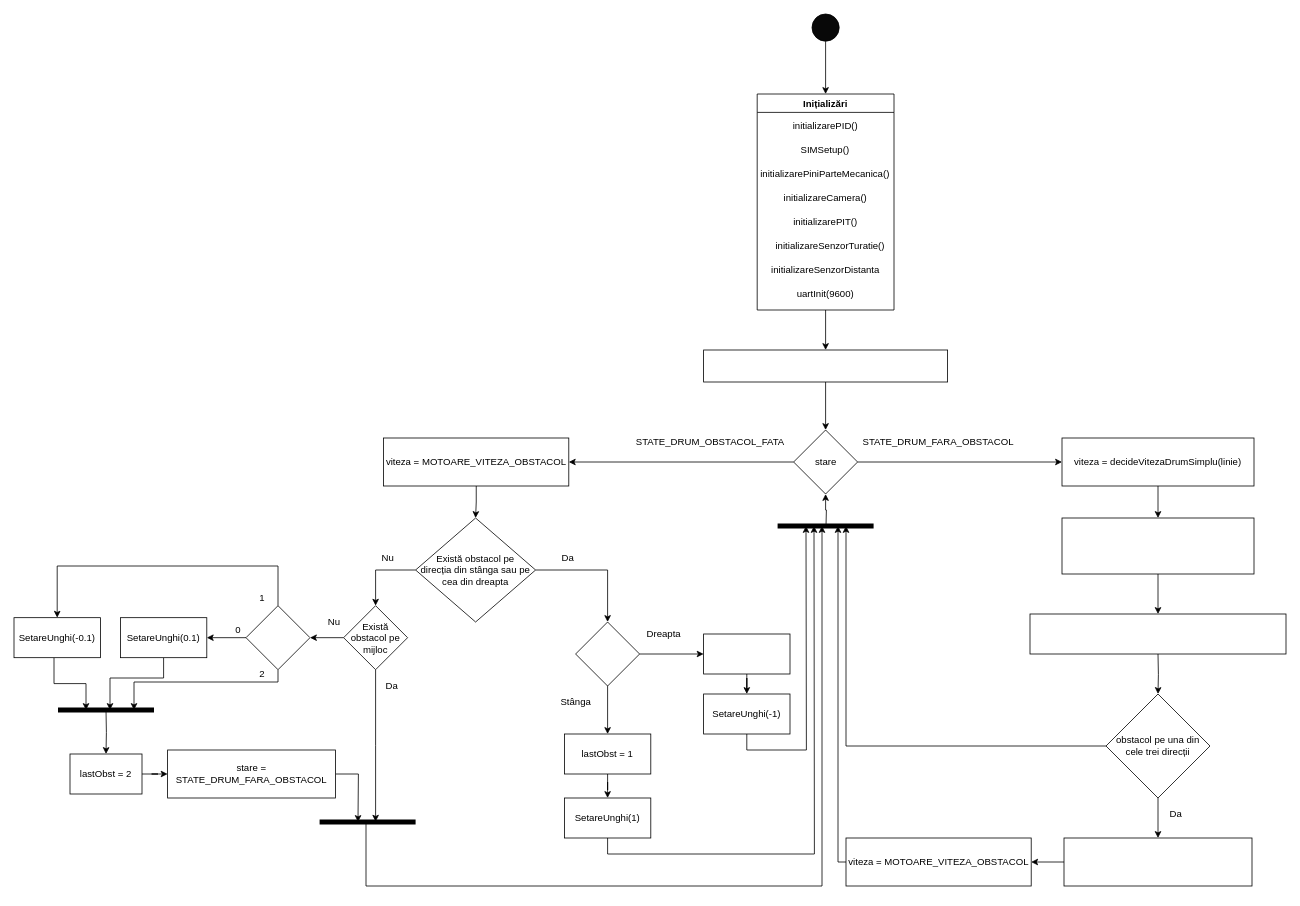
The diagram is 1300 pixels wide and 906 high, and some of its shapes have lost their labels. The shapes that lost their labels are listed below. From the top down, each one's centre as x and y in pixels, then its label:
(825,365): SetareUnghi(SERVOMOTOR_STRAIGHT_ERROR)
(1157,545): directie = decideDirectiaDrumSimplu(linie);
(277,637): lastObst
(607,653): Care e mai aproape
(746,653): lastObst = 0
(1157,633): SetareUnghi(directie + SERVOMOTOR_STRAIGHT_ERR)
(1157,861): stare = STATE_DRUM_OBSTACOL_FATA
